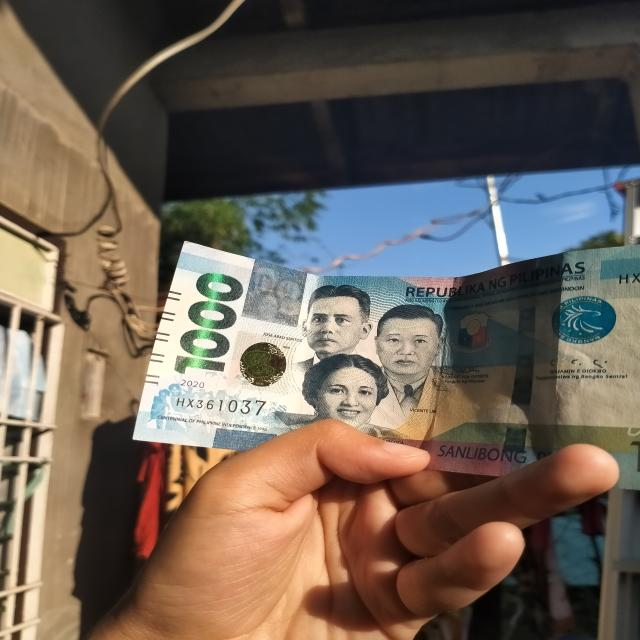concealed_value: (241, 259, 308, 327)
optically_variable_device: (226, 331, 296, 395)
security_thread: (498, 258, 534, 477)
see_through_mark: (618, 414, 640, 438)
serial_number: (174, 395, 268, 417)
value: (175, 270, 245, 377)
